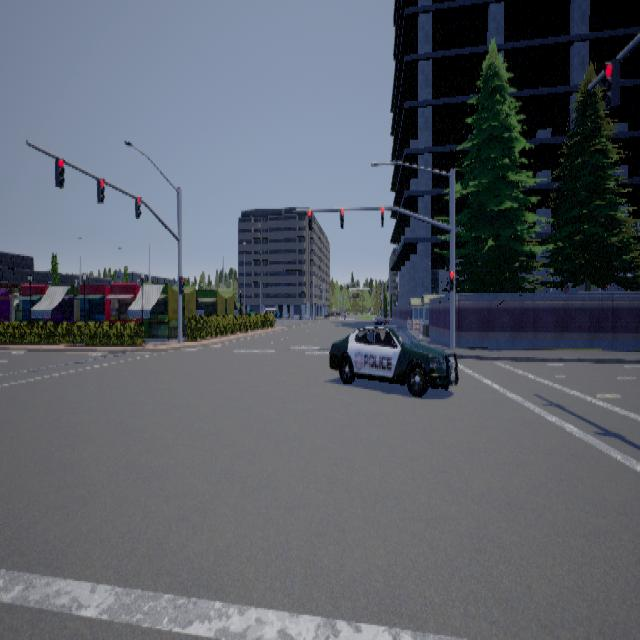red_light: (601, 58, 619, 110), (54, 155, 64, 187), (96, 177, 104, 202), (134, 195, 141, 218), (178, 275, 184, 293), (449, 271, 454, 291), (307, 209, 311, 229), (340, 208, 344, 228), (381, 206, 384, 226)
vehicle: (328, 318, 458, 396)
